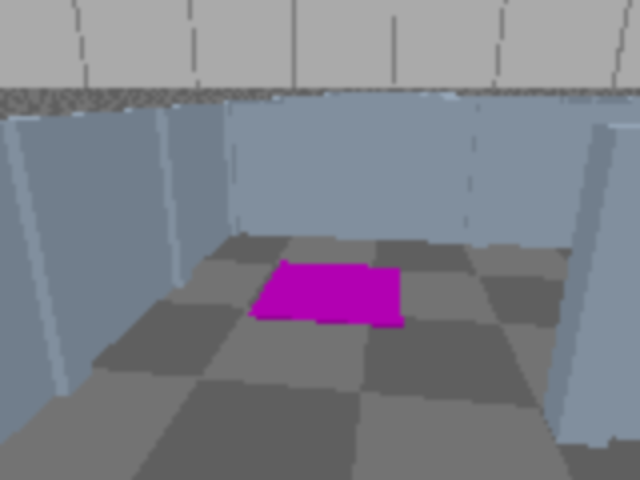goal_zone: (247, 262, 403, 328)
